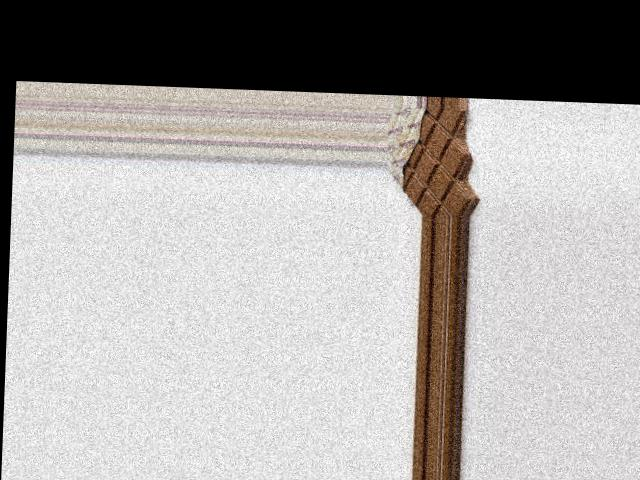chocolate: (385, 105, 474, 215)
